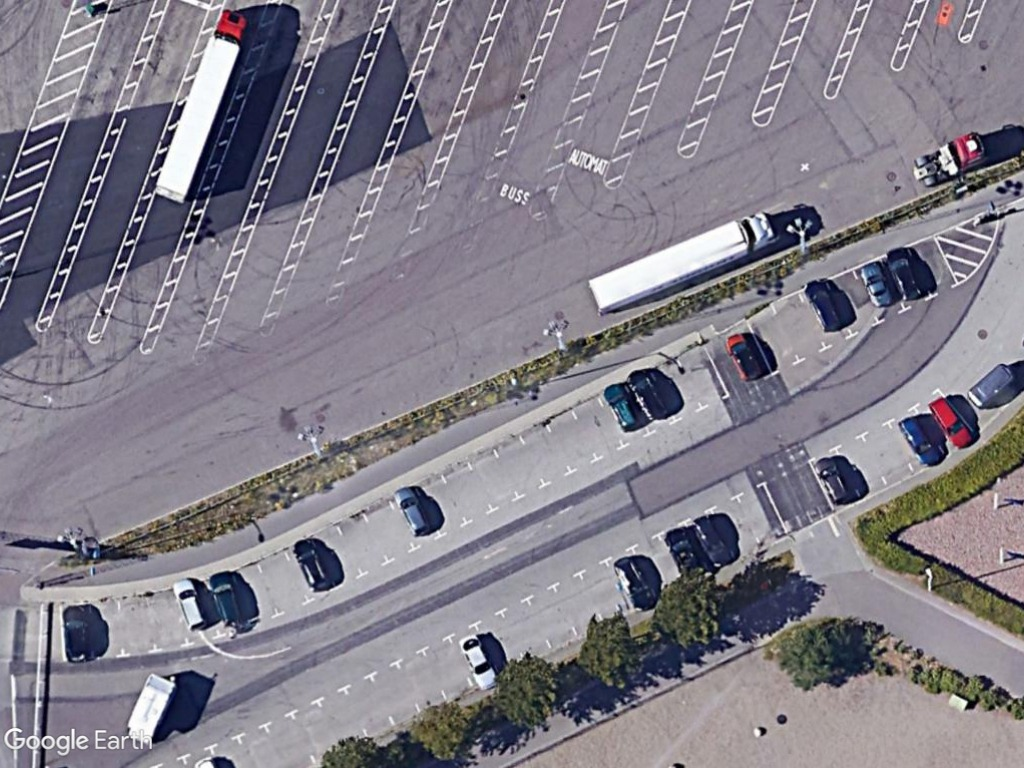car: (926, 394, 978, 450), (290, 534, 334, 596), (458, 630, 503, 690), (812, 452, 857, 512), (896, 412, 944, 468), (59, 602, 95, 669), (207, 563, 242, 629), (394, 482, 434, 539), (170, 575, 208, 633), (602, 380, 642, 433), (858, 260, 894, 312)
longvehicle: (582, 208, 786, 320), (155, 5, 256, 202)
